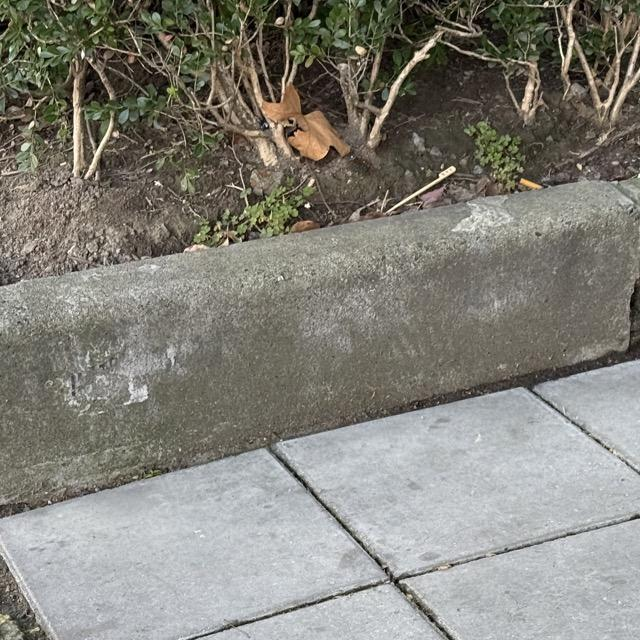curb: (0, 182, 639, 509)
